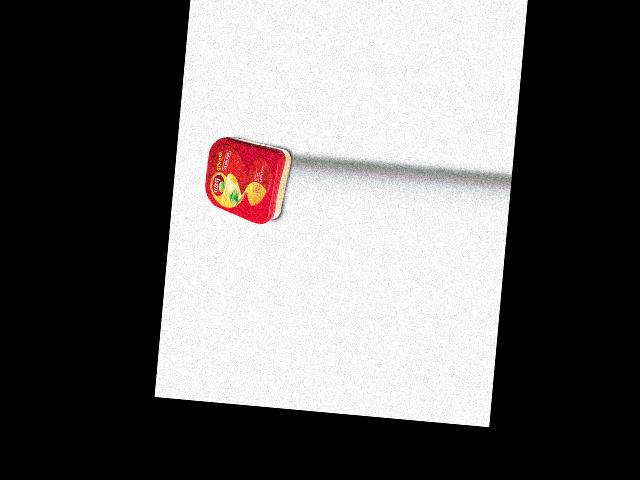cheese: (202, 135, 292, 226)
